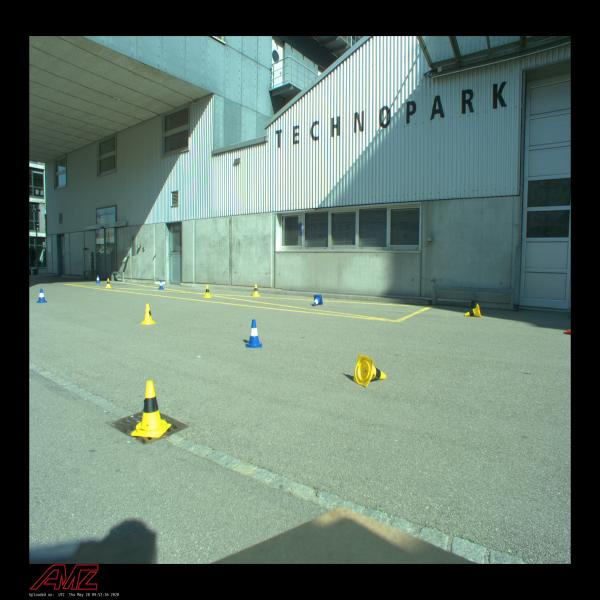blue_cone: (246, 319, 262, 348), (36, 288, 47, 302), (313, 295, 323, 306), (158, 280, 164, 290), (95, 276, 101, 284)
yellow_cone: (131, 380, 171, 438), (353, 354, 386, 387), (140, 304, 156, 324), (464, 303, 482, 318), (203, 285, 212, 298), (252, 284, 260, 297), (105, 278, 112, 288)
